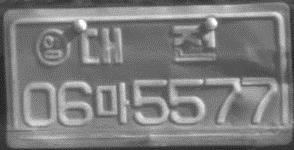0: (21, 79, 58, 128)
5: (130, 77, 169, 125), (167, 76, 205, 125)
6: (58, 79, 94, 127)
7: (240, 75, 279, 125), (204, 75, 242, 125)
대전_D: (77, 22, 218, 66)
마: (94, 81, 130, 125)
영: (35, 27, 71, 67)
